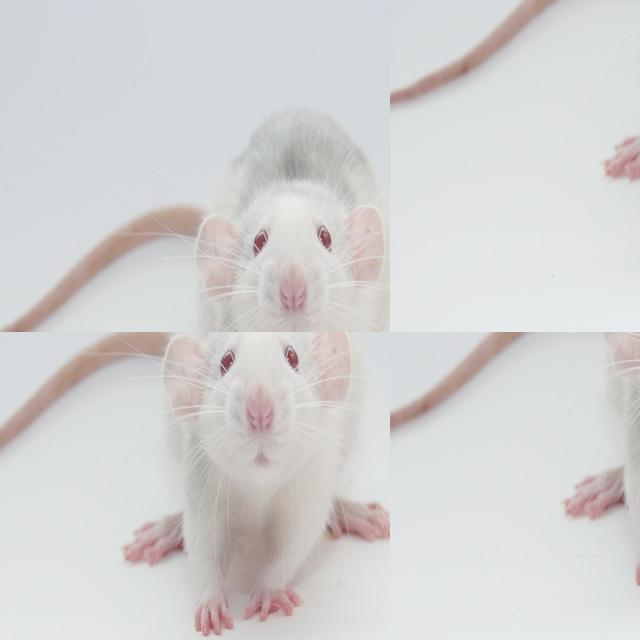rat: (413, 0, 452, 49)
